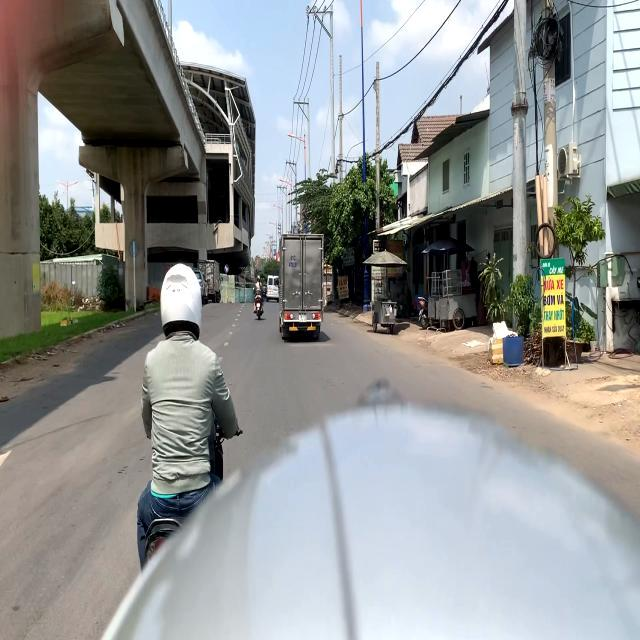Vong chuong ngai vat sang phai: (224, 264, 229, 274)
